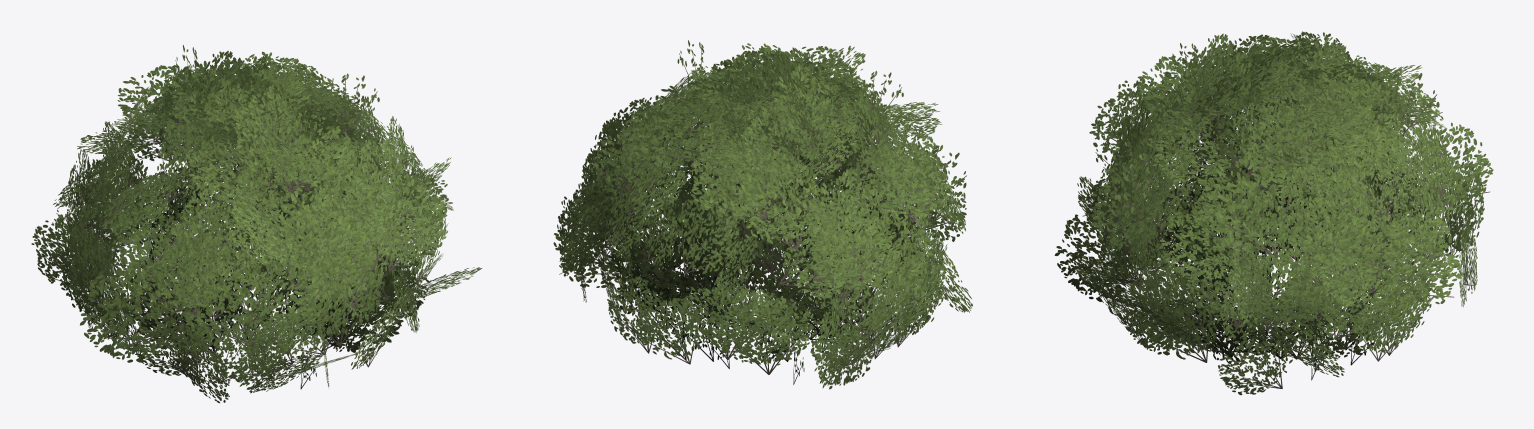
The model's file is brush.glb.
3 renders of one model, left to right at view 1: azimuth 30°, elevation 25°; view 2: azimuth 150°, elevation 25°; view 3: azimuth 270°, elevation 25°, orthographic. The views are drawn at different scales.
Visible parts, largest first — view 1: brush_lod0; view 2: brush_lod0; view 3: brush_lod0.
Part boxes in pixels (left/top/right/bottom): brush_lod0: left=31, top=45, right=482, bottom=403; brush_lod0: left=553, top=40, right=972, bottom=389; brush_lod0: left=1054, top=31, right=1493, bottom=395.
Size of what is drawn, in the model's own units: 1.99 by 1.43 by 1.96.
1 material, 1 textured.
